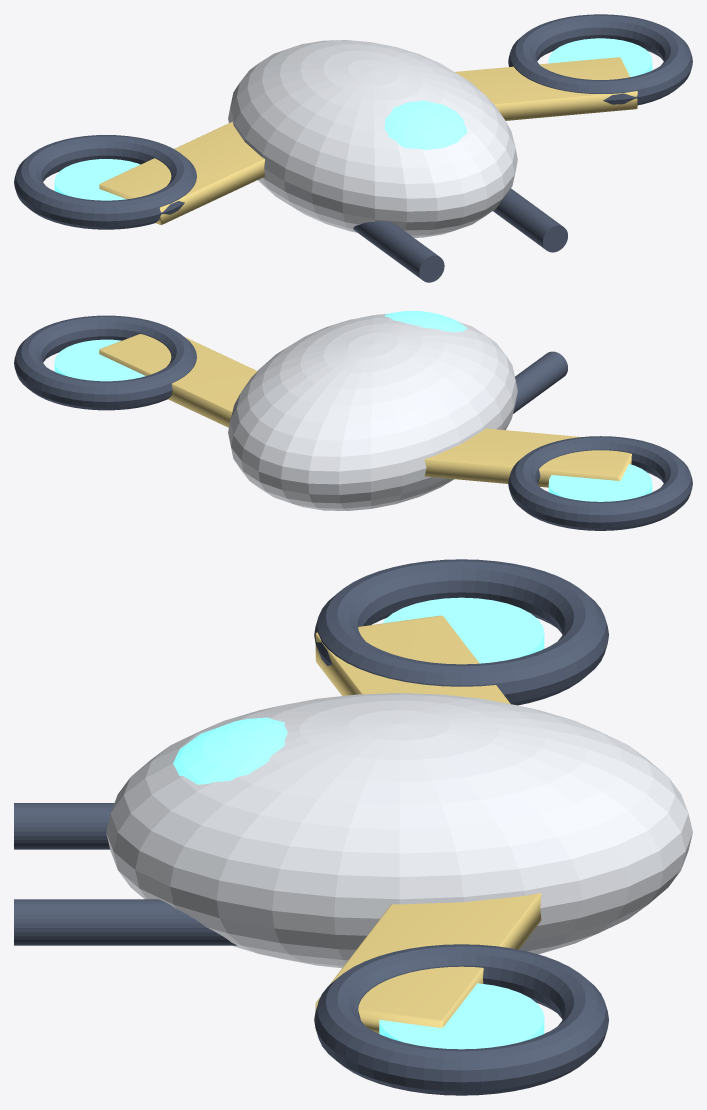
The model's file is drone_valkyrie.glb.
3 renders of one model, top to bottom at view 1: azimuth 30°, elevation 25°; view 2: azimuth 150°, elevation 25°; view 3: azimuth 270°, elevation 25°, orthographic. The views are drawn at different scales.
Visible parts, largest first — view 1: Sphere, Torus, Torus.001, Cube, Cube.001, Sphere.001, Cylinder.001, Cylinder, Cylinder.002, Cylinder.003; view 2: Sphere, Torus.001, Torus, Cube, Cube.001, Cylinder, Cylinder.002, Cylinder.001, Sphere.001; view 3: Sphere, Torus.001, Torus, Cube.001, Cylinder.003, Cube, Cylinder.002, Cylinder, Sphere.001, Cylinder.001.
Part boxes in pixels (x1,y1,x2,y2): Sphere: (228, 40, 517, 237); Torus: (14, 135, 196, 229); Torus.001: (508, 14, 692, 105); Cube: (99, 121, 264, 224); Cube.001: (455, 57, 637, 120); Sphere.001: (384, 100, 467, 150); Cylinder.001: (353, 221, 444, 282); Cylinder: (54, 159, 140, 200); Cylinder.002: (548, 38, 652, 76); Cylinder.003: (493, 188, 567, 252); Sphere: (228, 314, 517, 510); Torus.001: (14, 315, 196, 410); Torus: (508, 436, 692, 530); Cube: (424, 428, 631, 487); Cube.001: (99, 334, 257, 427); Cylinder: (548, 464, 652, 501); Cylinder.002: (54, 339, 145, 381); Cylinder.001: (513, 351, 567, 413); Sphere.001: (384, 311, 467, 332); Sphere: (106, 693, 692, 968); Torus.001: (314, 944, 608, 1095); Torus: (314, 559, 608, 705); Cube.001: (315, 893, 541, 1033); Cylinder.003: (14, 899, 236, 945); Cube: (315, 615, 510, 703); Cylinder.002: (379, 983, 544, 1049); Cylinder: (382, 597, 544, 663); Sphere.001: (173, 717, 287, 784); Cylinder.001: (14, 803, 114, 849).
Size of the model in its own units: 2.33 by 0.462 by 1.31.
